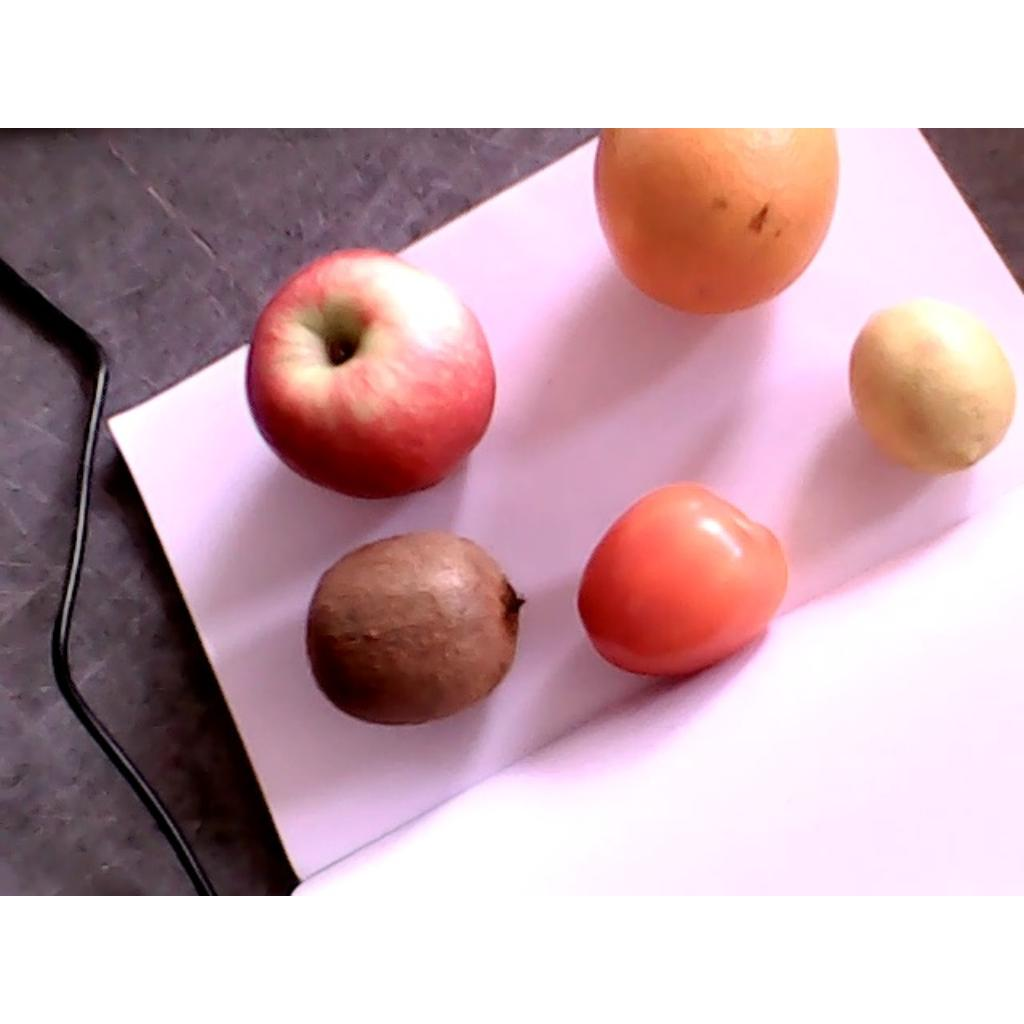apple: (248, 247, 496, 499)
kiwi: (308, 533, 526, 725)
lemon: (849, 307, 1015, 469)
orange: (595, 128, 838, 316)
tomato: (578, 483, 786, 678)
